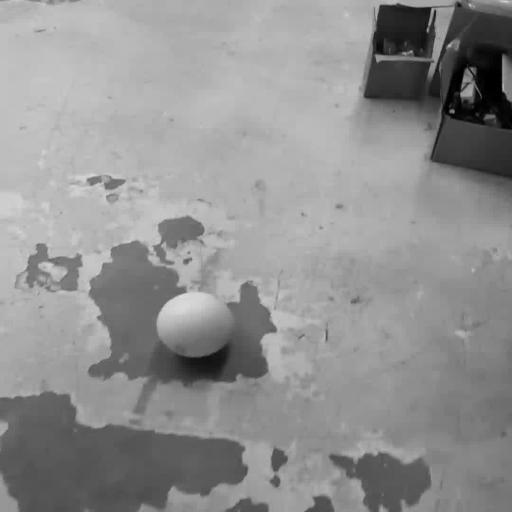fuel: (157, 292, 233, 357)
